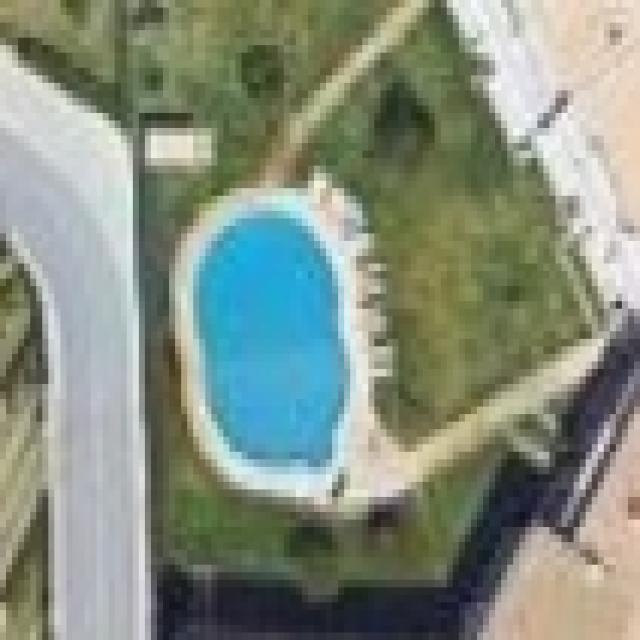pool: (181, 188, 371, 497)
